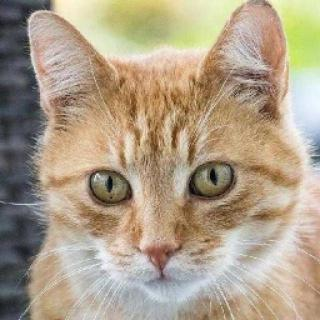cat: (23, 1, 297, 304)
nose: (130, 207, 190, 274)
